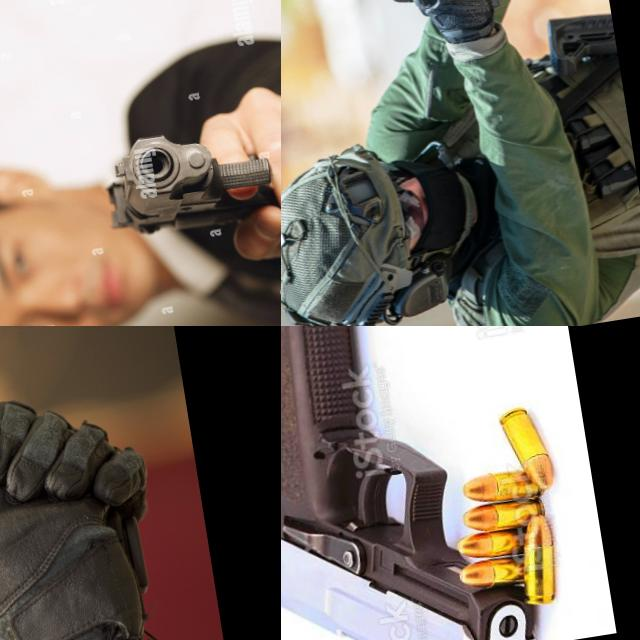handgun: (281, 326, 545, 640), (0, 326, 164, 637), (89, 98, 281, 253), (364, 0, 468, 44)
